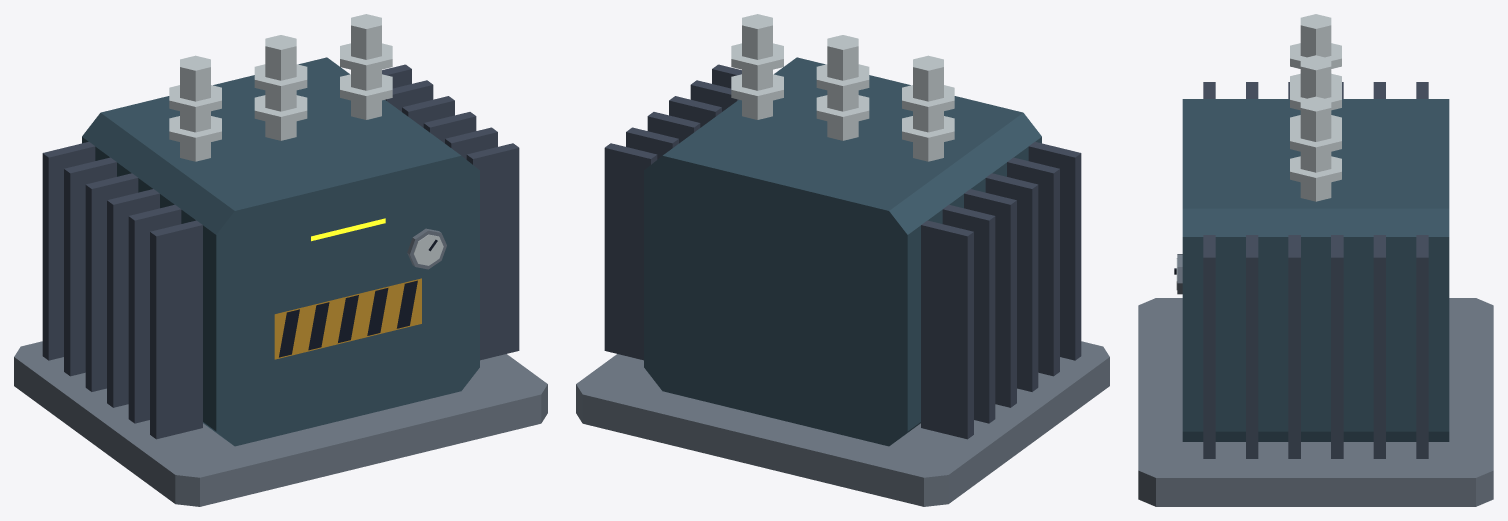
File: fus_pulse_transformer.glb
3 renders of one model, left to right at view 1: azimuth 30°, elevation 25°; view 2: azimuth 150°, elevation 25°; view 3: azimuth 270°, elevation 25°, orthographic.
Parts seen in each view (by area): view 1: oil_tank, radiator_fin, gauge_rim, bushing_shed, warning_band, gauge_pointer; view 2: oil_tank, radiator_fin, gauge_rim, bushing_shed; view 3: oil_tank, gauge_rim, radiator_fin, bushing_shed.
Boxes of the visible parts, x1,y1,x2,y2 form: oil_tank: (82,57,479,446); radiator_fin: (42,64,519,439); gauge_rim: (14,228,547,506); bushing_shed: (169,14,443,265); warning_band: (274,278,421,359); gauge_pointer: (279,239,437,357); oil_tank: (644,57,1041,446); radiator_fin: (604,64,1081,439); gauge_rim: (576,341,1109,506); bushing_shed: (731,14,954,161); oil_tank: (1182,99,1449,441); gauge_rim: (1138,254,1493,506); radiator_fin: (1203,82,1428,458); bushing_shed: (1176,14,1341,289).
Size of the model in its own units: 2.4 by 2.2 by 2.
